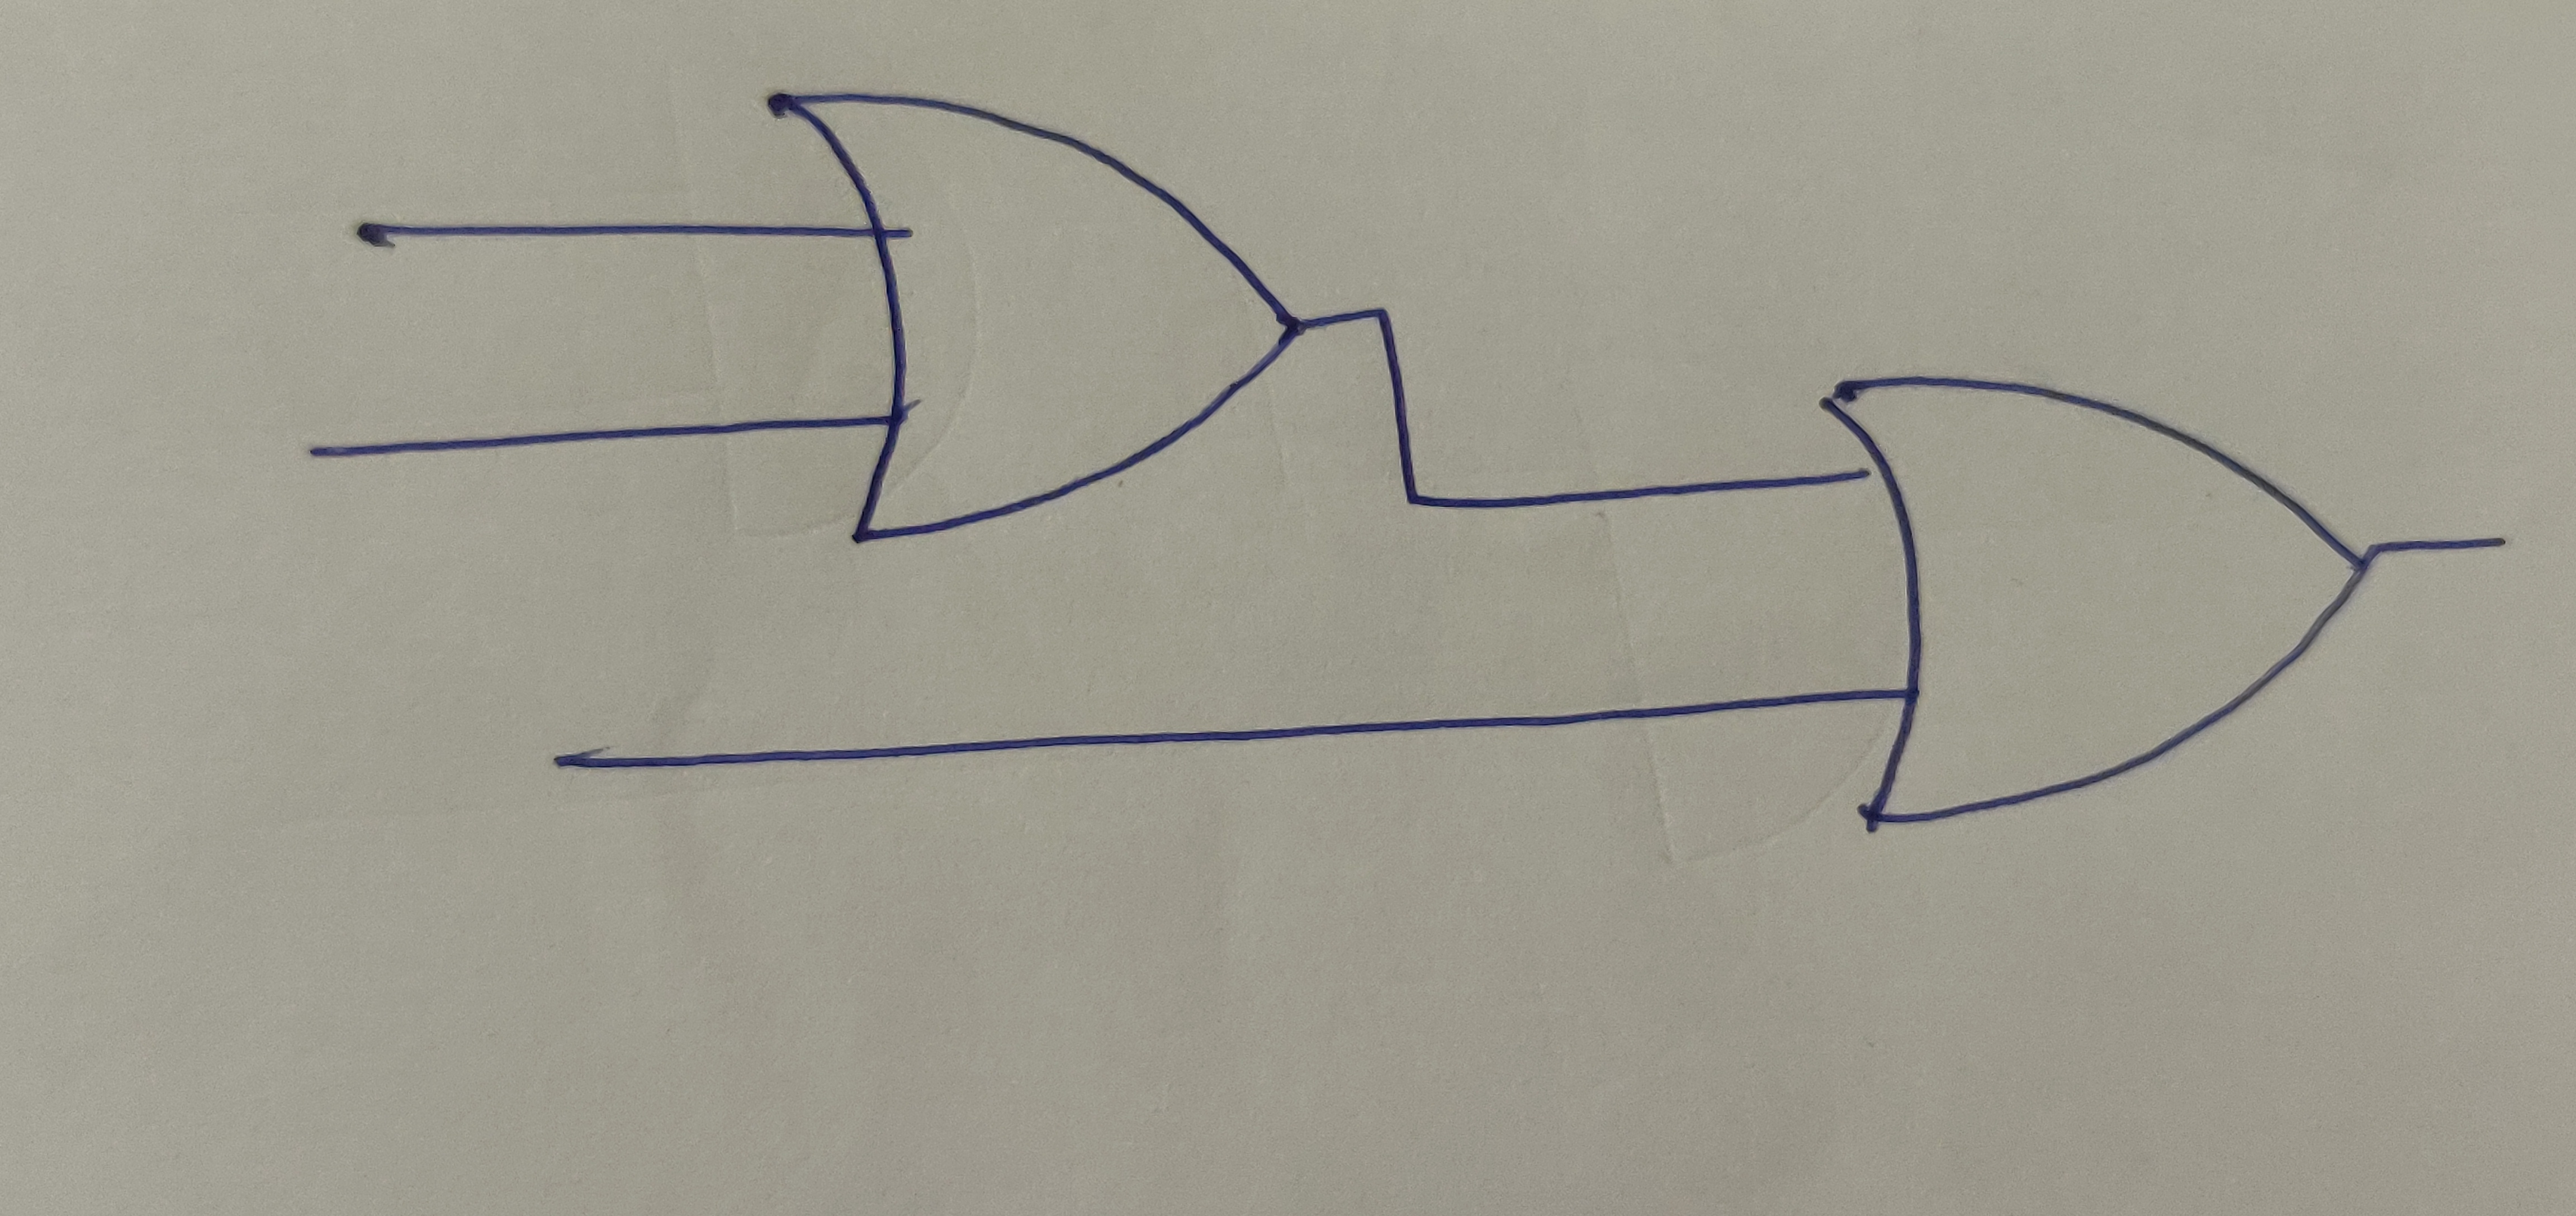or: (1824, 380, 2367, 827), (764, 87, 1298, 541)
